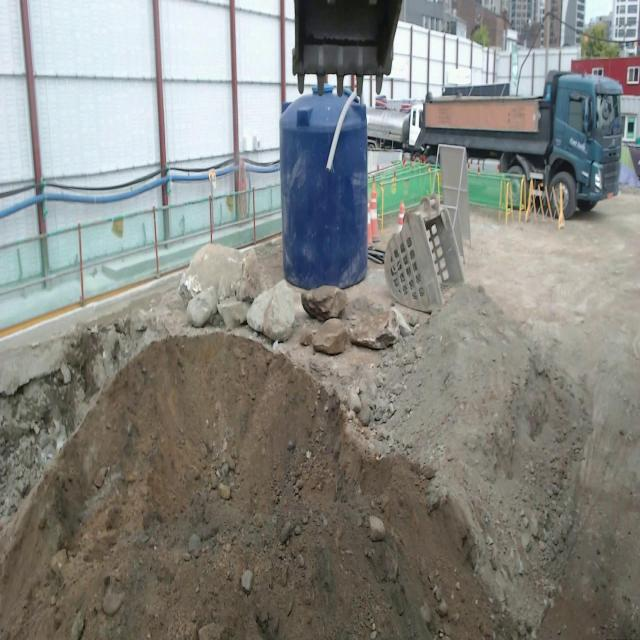red-sand: (0, 332, 496, 639)
rocks: (178, 244, 295, 341)
stone: (179, 244, 267, 301), (342, 297, 402, 350), (246, 280, 295, 341), (301, 286, 348, 321), (312, 318, 349, 355), (186, 287, 218, 327), (218, 298, 249, 329)
white-sand: (391, 284, 590, 628), (465, 194, 640, 487)
